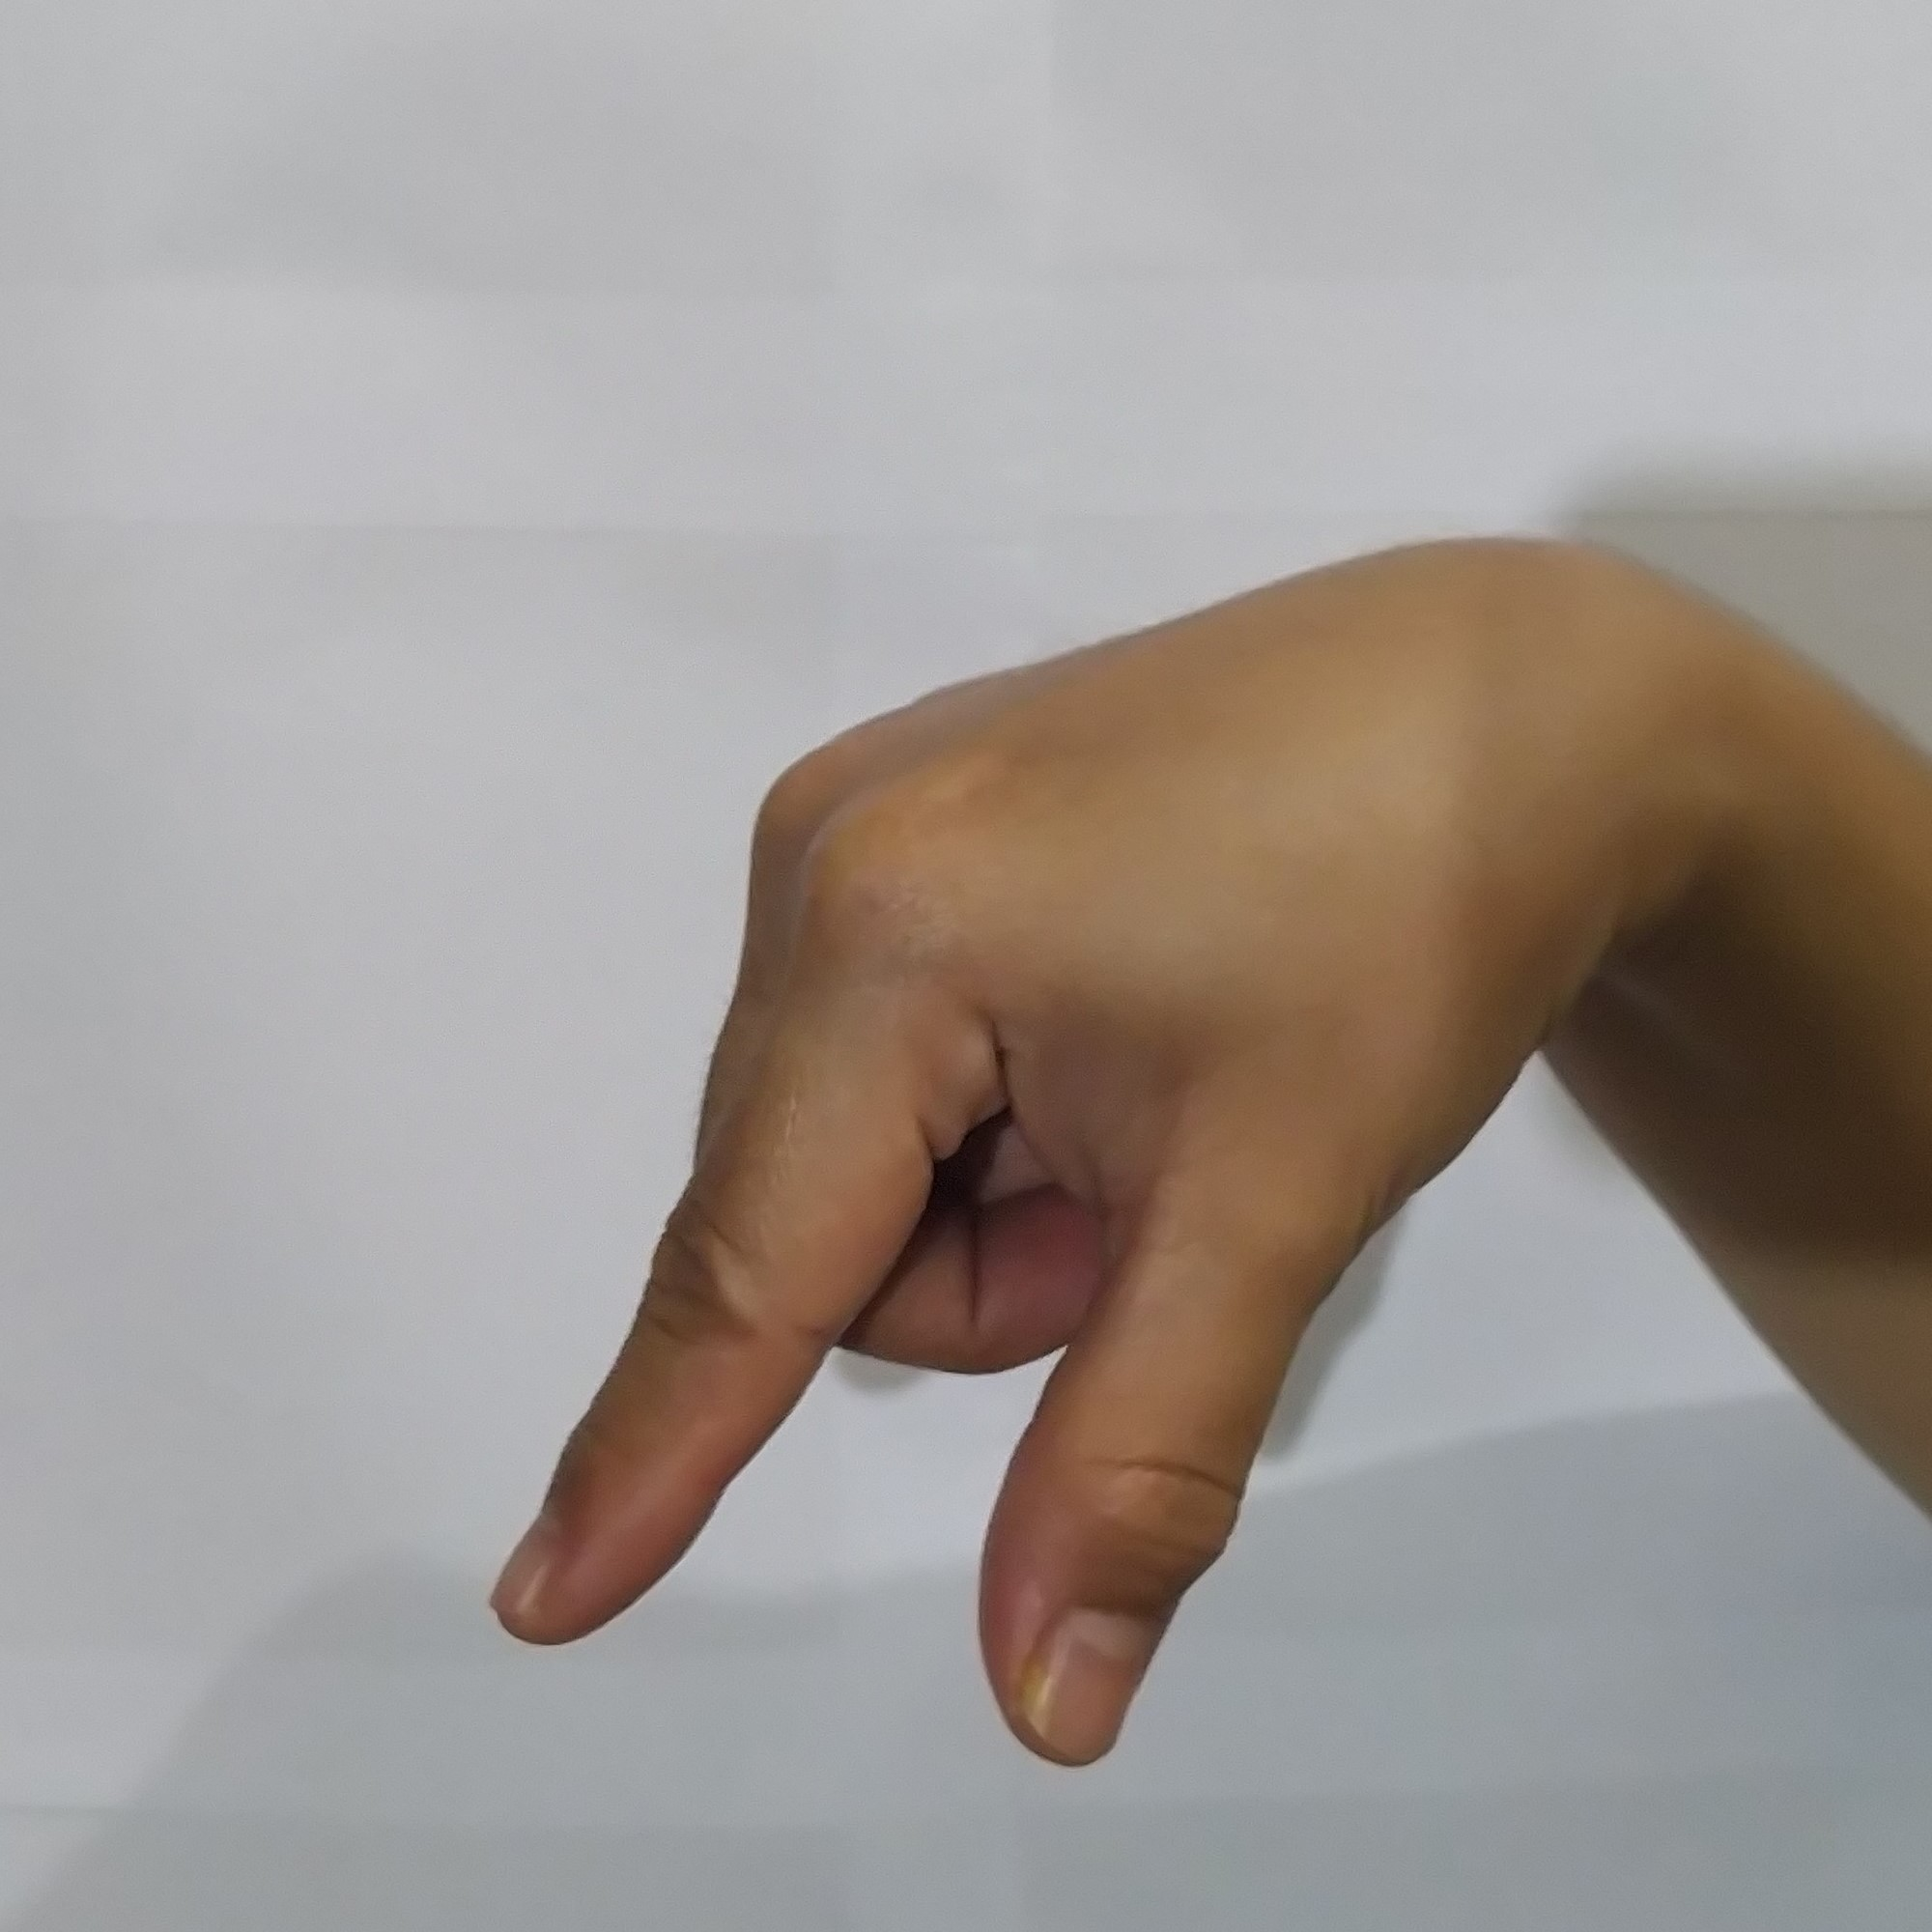Q: (453, 593, 1541, 1794)
